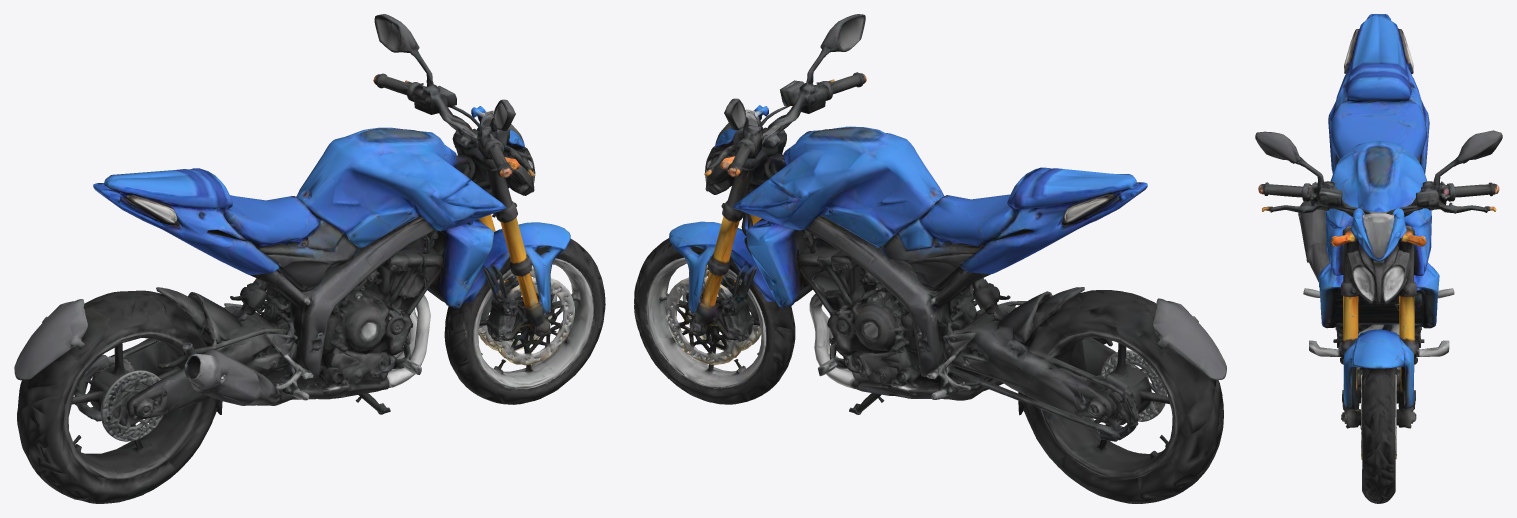
Rendered from bike-low.697029bd.glb.
3 views of the same model, side by side, from view 1: azimuth 30°, elevation 25°; view 2: azimuth 150°, elevation 25°; view 3: azimuth 270°, elevation 25° (orthographic). The views are drawn at different scales.
Visible parts, largest first — view 1: trim_dark (×25), body_paint (×2); view 2: trim_dark (×27), body_paint (×2); view 3: trim_dark (×19), body_paint (×3).
Part boxes in pixels (<box>): trim_dark (×25): <box>14,14,605,503</box>; body_paint (×2): <box>452,125,531,286</box>; trim_dark (×27): <box>634,14,1226,503</box>; body_paint (×2): <box>700,128,786,306</box>; trim_dark (×19): <box>1255,14,1502,503</box>; body_paint (×3): <box>1340,225,1426,391</box>.
Bounding box in the file's own units: 2.02 × 1.19 × 0.8067.
53 materials, 53 textured.
